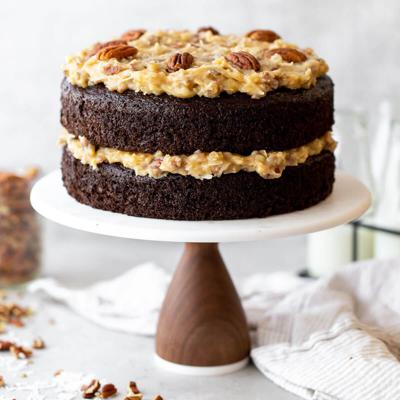cake: (59, 21, 336, 223)
